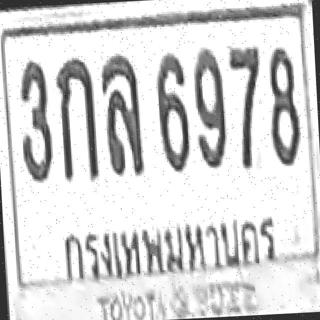A01: (55, 56, 98, 181)
N03: (16, 58, 53, 182)
N06: (152, 51, 190, 170)
N07: (228, 46, 265, 163), (228, 46, 264, 134), (228, 46, 263, 126)
N08: (264, 45, 300, 165)
N09: (190, 46, 228, 170)
P04: (52, 208, 286, 290)
